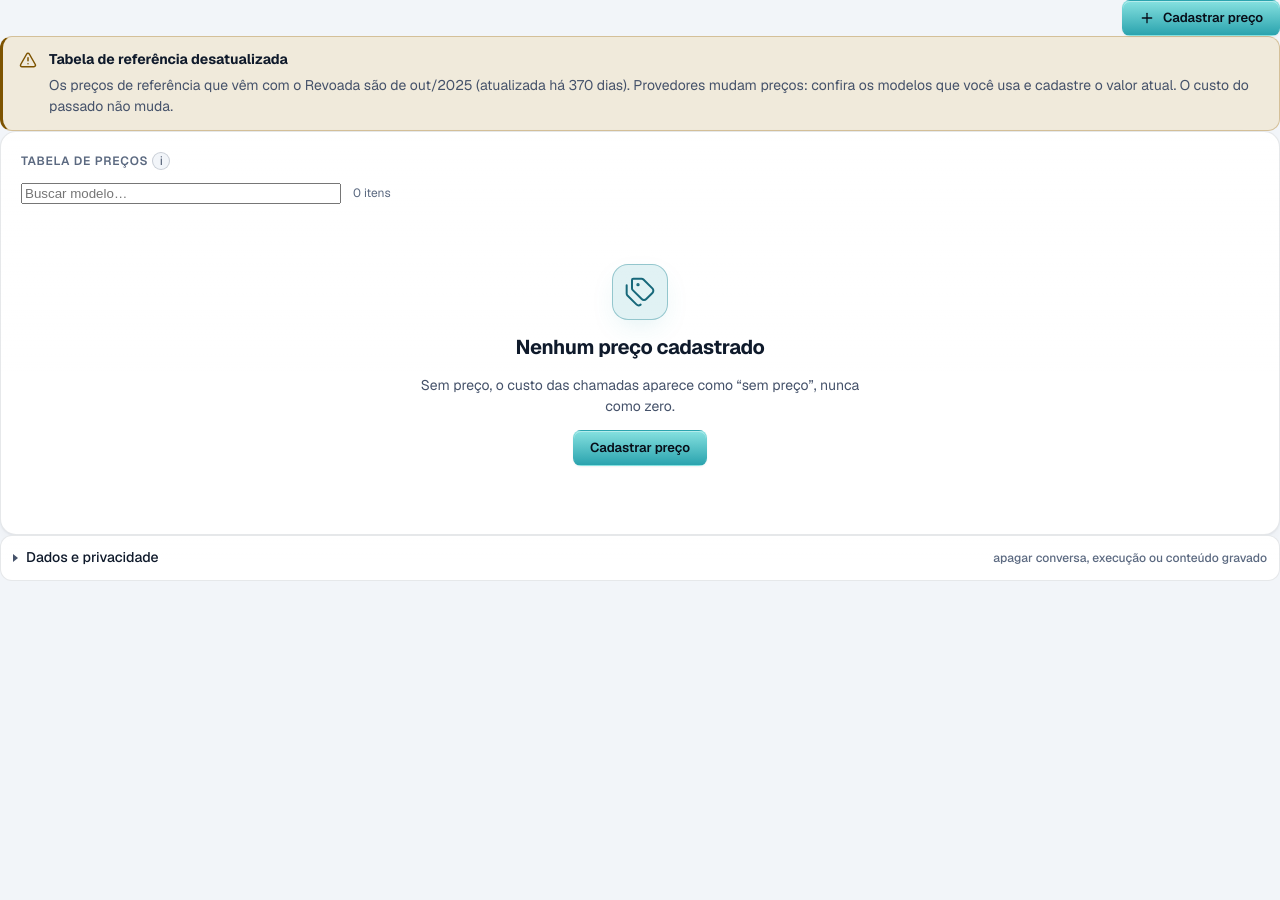
Test case: Modelos e preços › tabela vazia vira guia com 'Cadastrar preço' (admin)
Click the button "Cadastrar preço" below "Nenhum preço cadastrado": click(640, 448) left=573, top=430, right=707, bottom=466
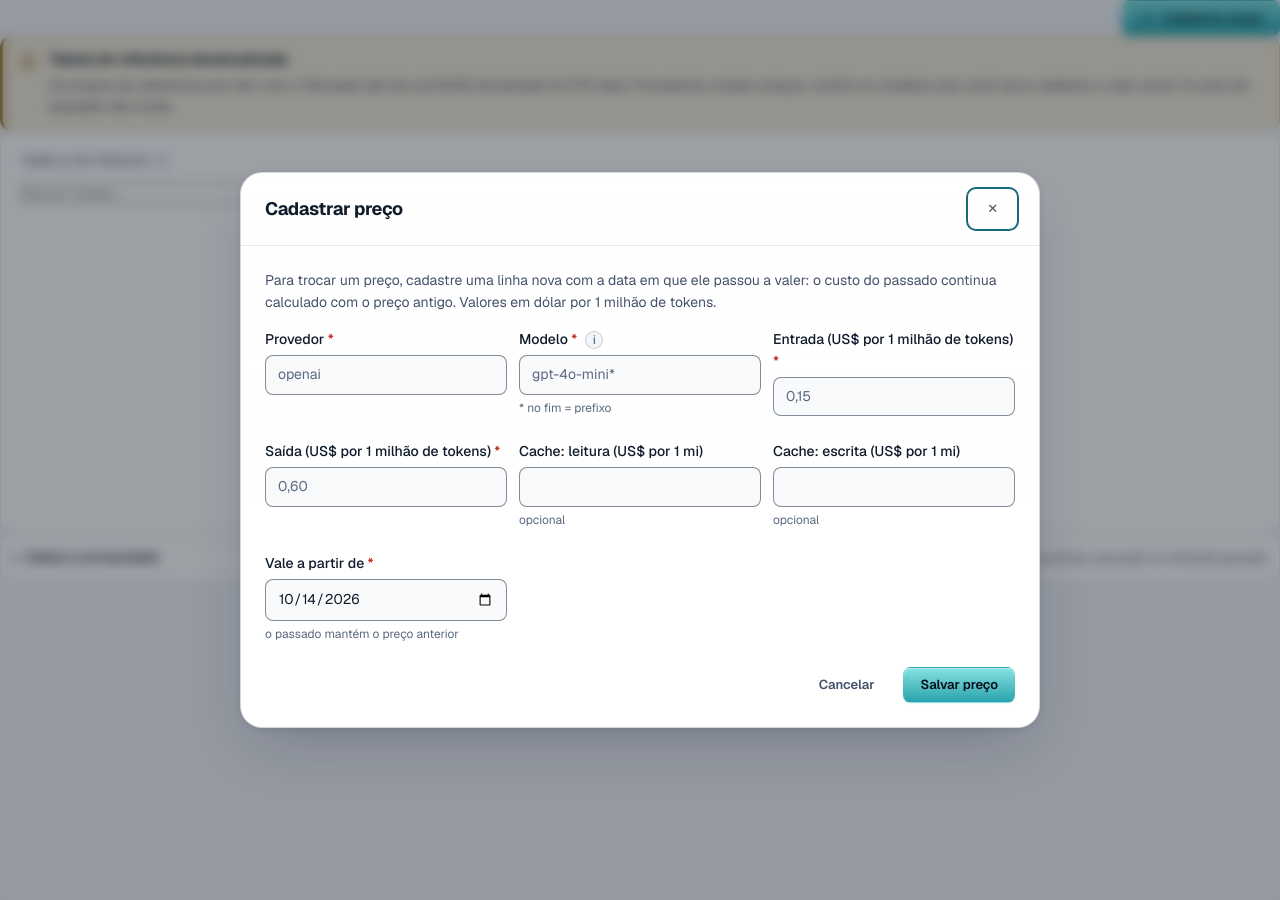
Expected: the dialog "Cadastrar preço" is shown, left=240, top=172, right=1040, bottom=728
